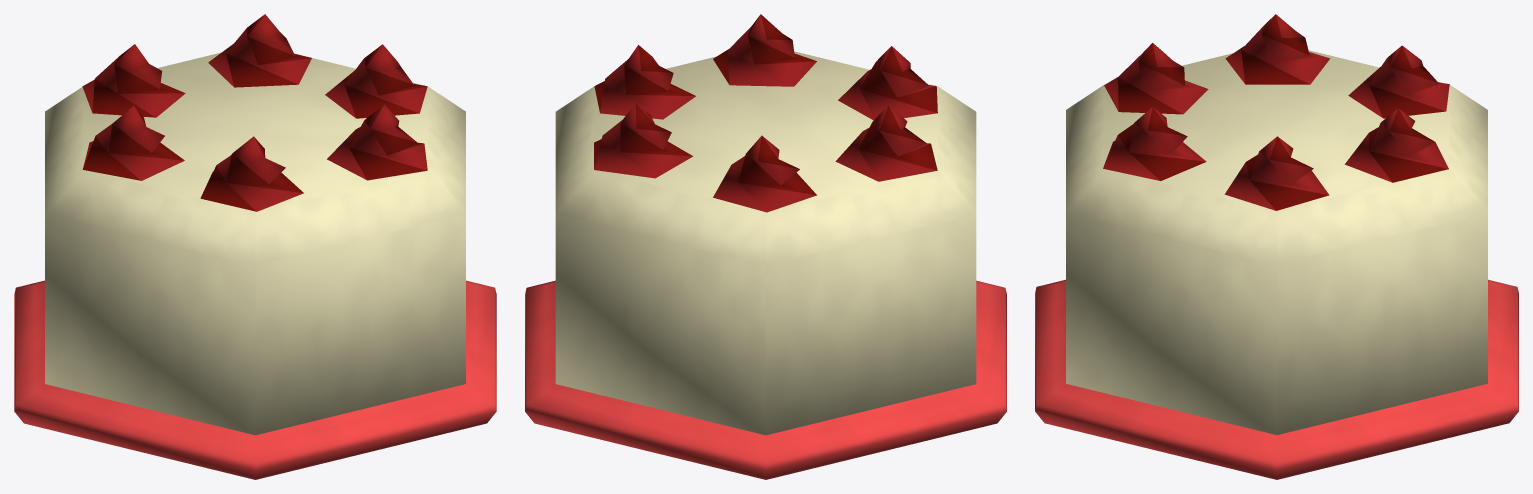
The model's file is Cake_B_05.FBX.
3 renders of one model, left to right at view 1: azimuth 30°, elevation 25°; view 2: azimuth 150°, elevation 25°; view 3: azimuth 270°, elevation 25°, orthographic.
Parts seen in each view (by area): view 1: Cake_2; view 2: Cake_2; view 3: Cake_2.
Boxes of the visible parts, x1,y1,x2,y2 form: Cake_2: (14,14,496,479); Cake_2: (525,14,1006,479); Cake_2: (1035,14,1518,479).
Size of the model in its own units: 117 by 67.83 by 101.
